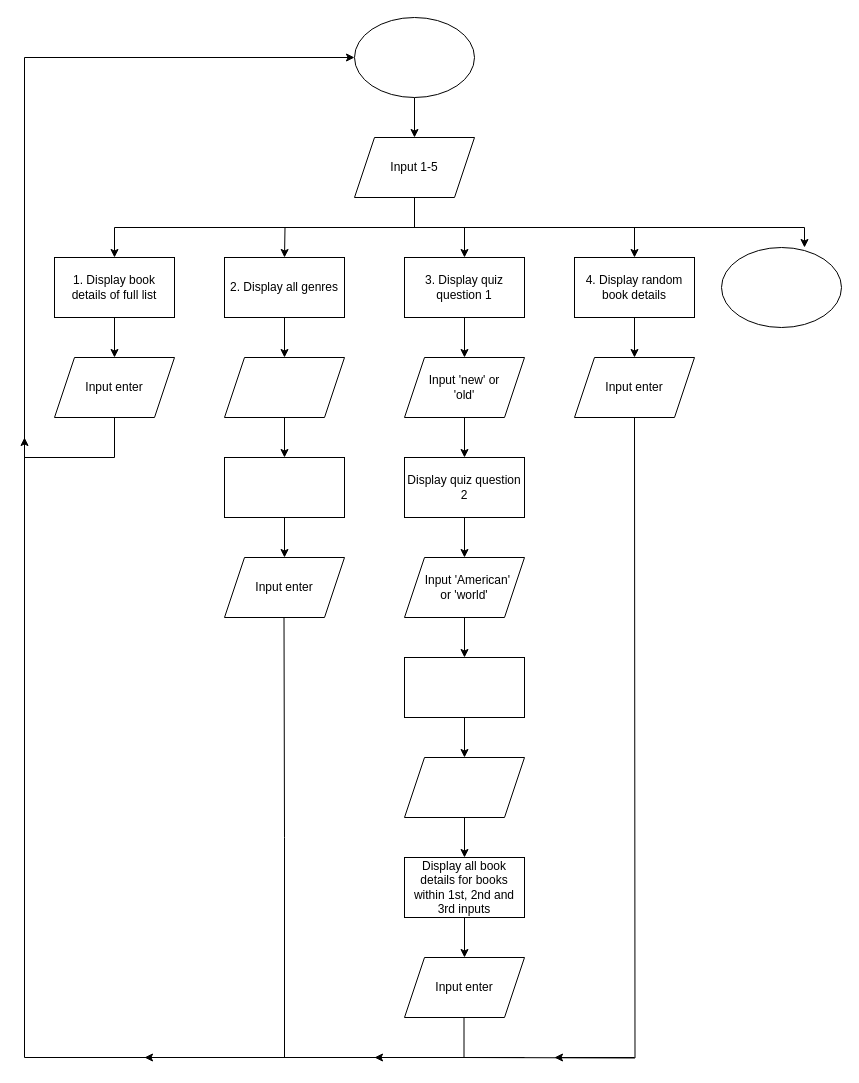
The diagram is 859 pixels wide and 1083 high, and some of its shapes have lost their labels. The centre of each missing label's shape, as x and y in pixels:
"5. Exit app" belongs at point 781,287.
"Display all book details for books within input genre" belongs at point 284,487.
"Display all genres within 1st and 2nd inputs" belongs at point 464,687.
"Input 1-13" belongs at point 284,387.
"Input genre" belongs at point 464,787.
"Menu" belongs at point 414,57.
